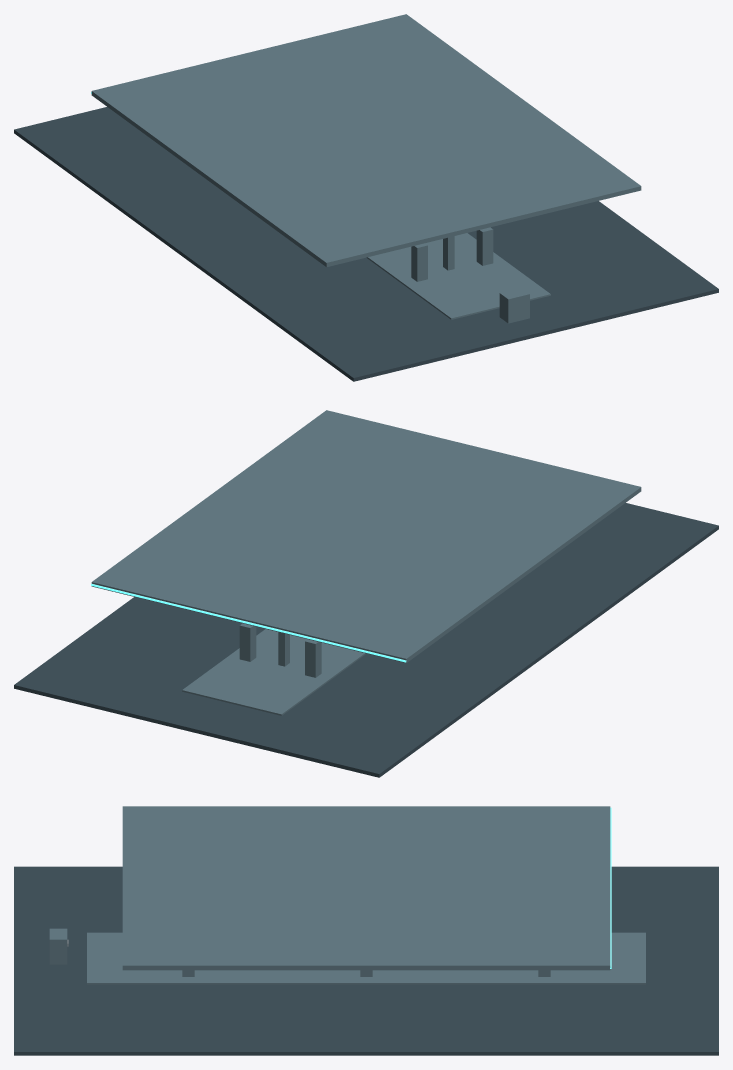
The model's file is ev_charging_station.lod2.glb.
3 views of the same model, one above another, from view 1: azimuth 30°, elevation 25°; view 2: azimuth 150°, elevation 25°; view 3: azimuth 270°, elevation 25° (orthographic). The views are drawn at different scales.
Parts seen in each view (by area): view 1: ev_charging_station_graphite_light.002, ev_charging_station_graphite.002; view 2: ev_charging_station_graphite_light.002, ev_charging_station_graphite.002, ev_charging_station_edge.002; view 3: ev_charging_station_graphite_light.002, ev_charging_station_graphite.002.
Boxes of the visible parts, bbox=[...] form: ev_charging_station_graphite_light.002: bbox=[91, 14, 641, 323]; ev_charging_station_graphite.002: bbox=[14, 107, 718, 381]; ev_charging_station_graphite_light.002: bbox=[91, 410, 641, 715]; ev_charging_station_graphite.002: bbox=[14, 503, 718, 777]; ev_charging_station_edge.002: bbox=[91, 583, 406, 662]; ev_charging_station_graphite_light.002: bbox=[49, 806, 645, 984]; ev_charging_station_graphite.002: bbox=[14, 866, 718, 1055].
Size of the model in its own units: 24.6 by 4.79 by 39.6.
